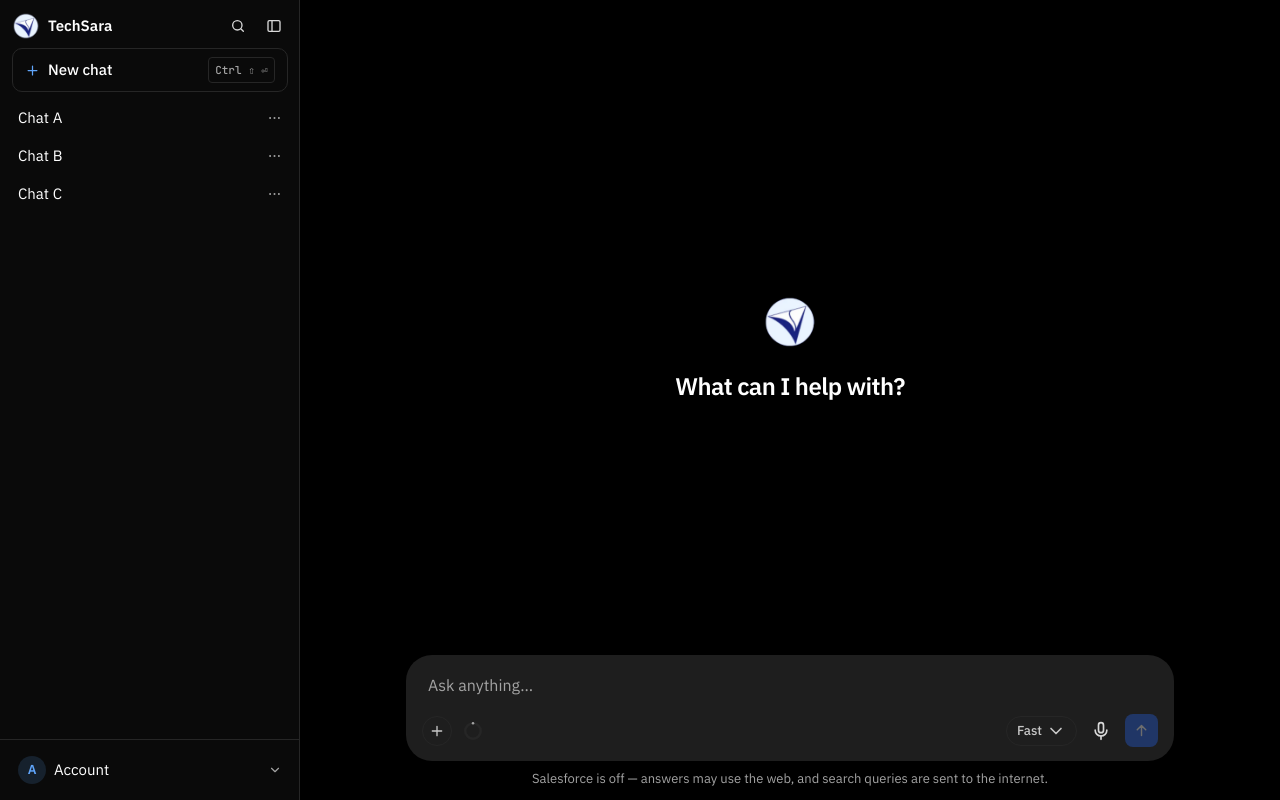
Scenario: M-10 · CASE 2 — a loading chat is not a new chat › shows the loading state, not the New Chat greeting, for an uncached chat
Click the button "Chat B" at (40, 156), box [8,138,292,174]
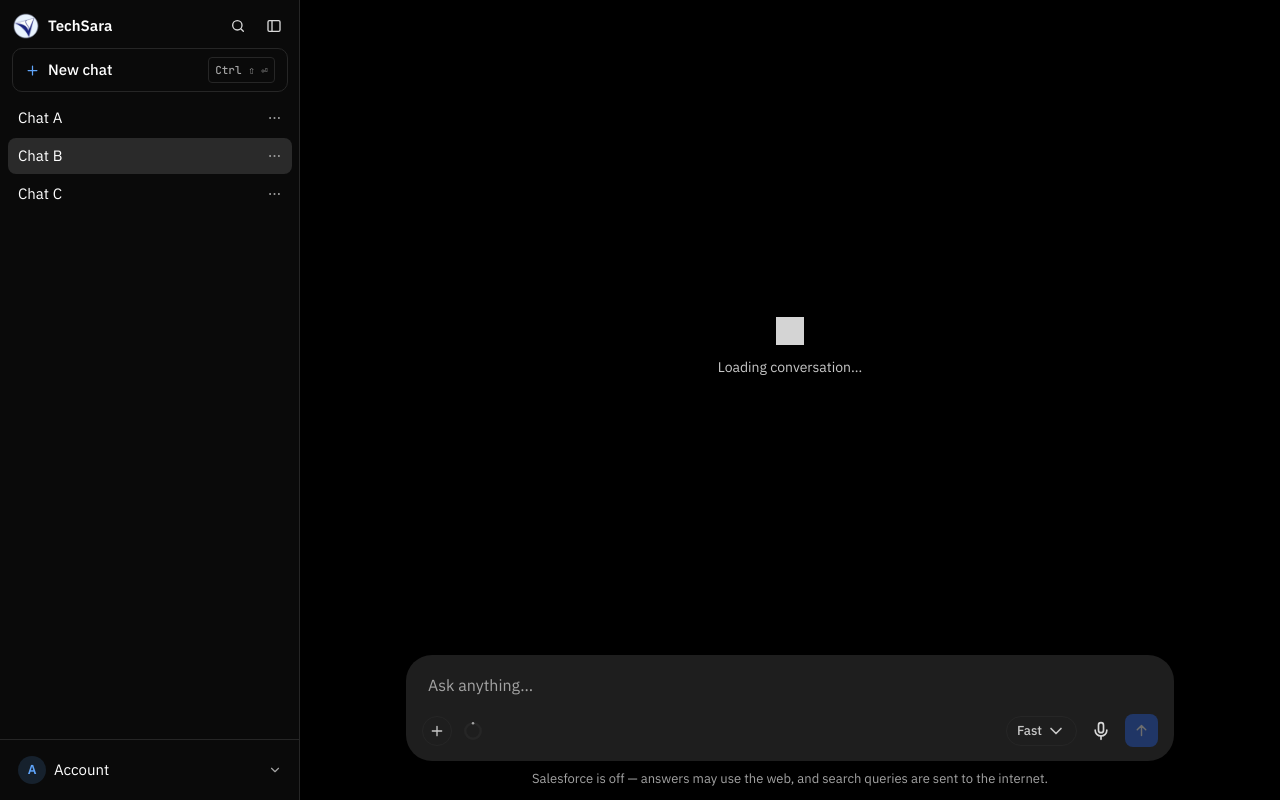
Expected: the message "Loading conversation…" is shown, [718,317,862,376]
Expected: the heading "What can I help with?" is gone
